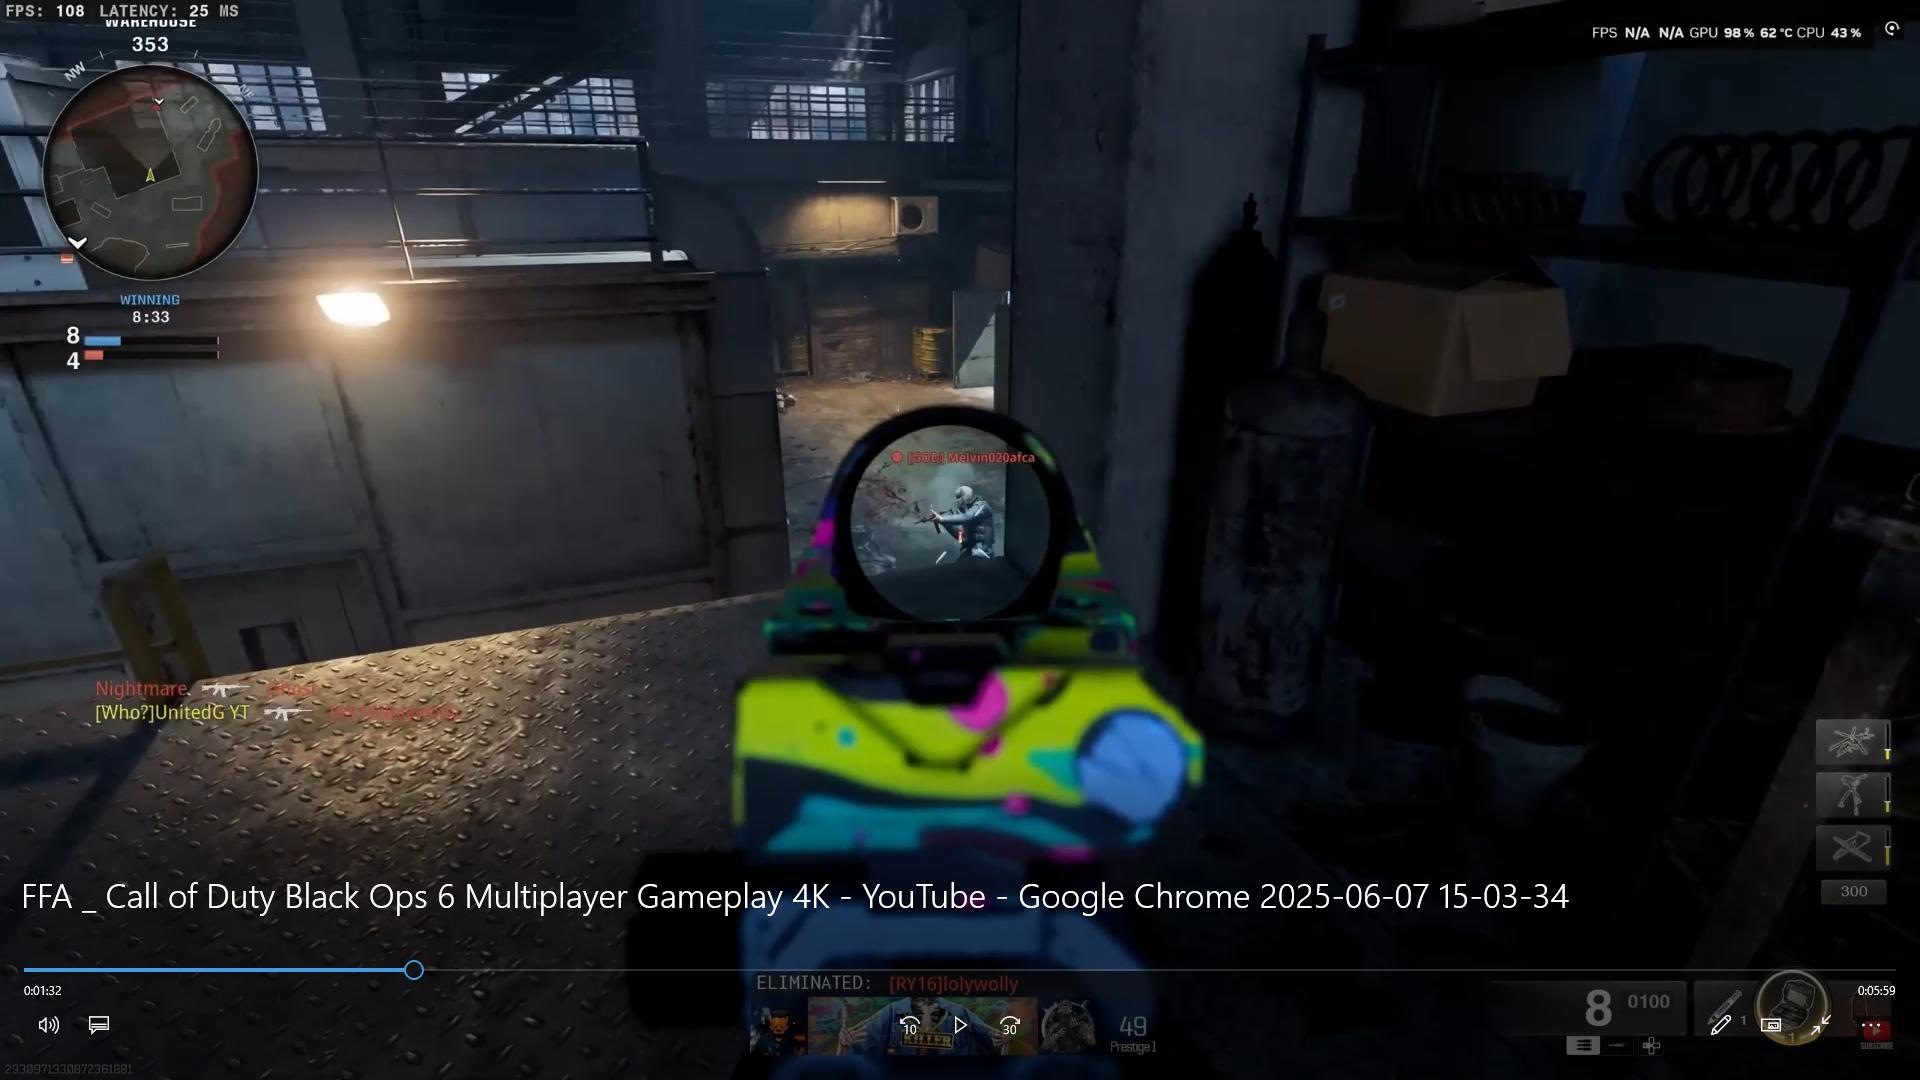Enemy: (922, 479, 1002, 559)
